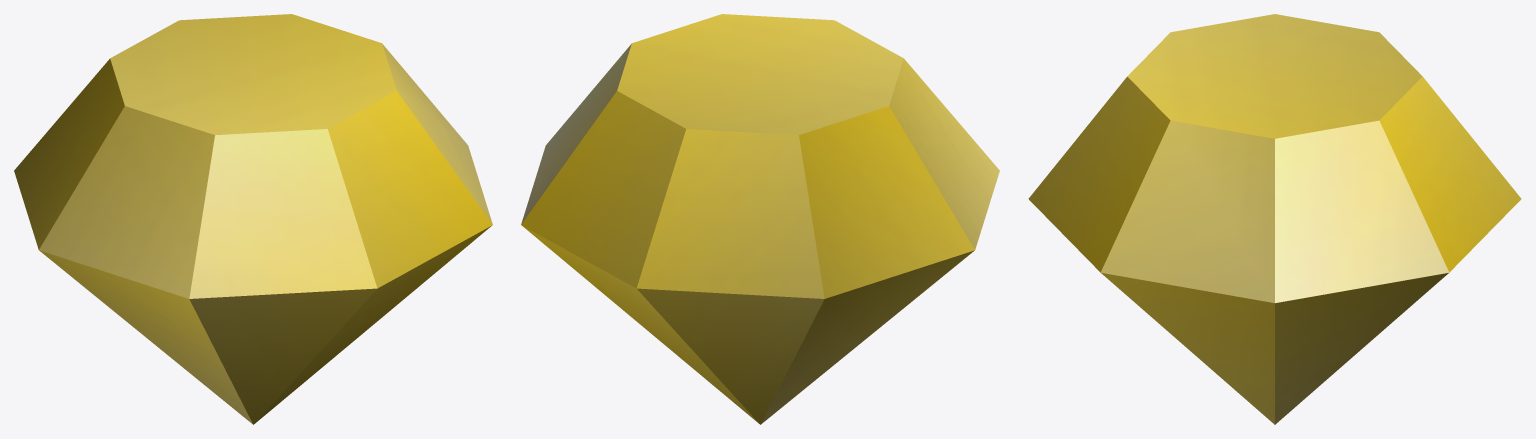
Rendered from Raw_V2.fbx.
3 views of the same model, side by side, from view 1: azimuth 30°, elevation 25°; view 2: azimuth 150°, elevation 25°; view 3: azimuth 270°, elevation 25° (orthographic).
Visible parts, largest first — view 1: GoldCrystal; view 2: GoldCrystal; view 3: GoldCrystal.
Part boxes in pixels (<box>): GoldCrystal: <box>14,14,492,424</box>; GoldCrystal: <box>521,14,999,424</box>; GoldCrystal: <box>1028,14,1521,424</box>.
Bounding box in the file's own units: 52.16 × 40.67 × 52.16.
